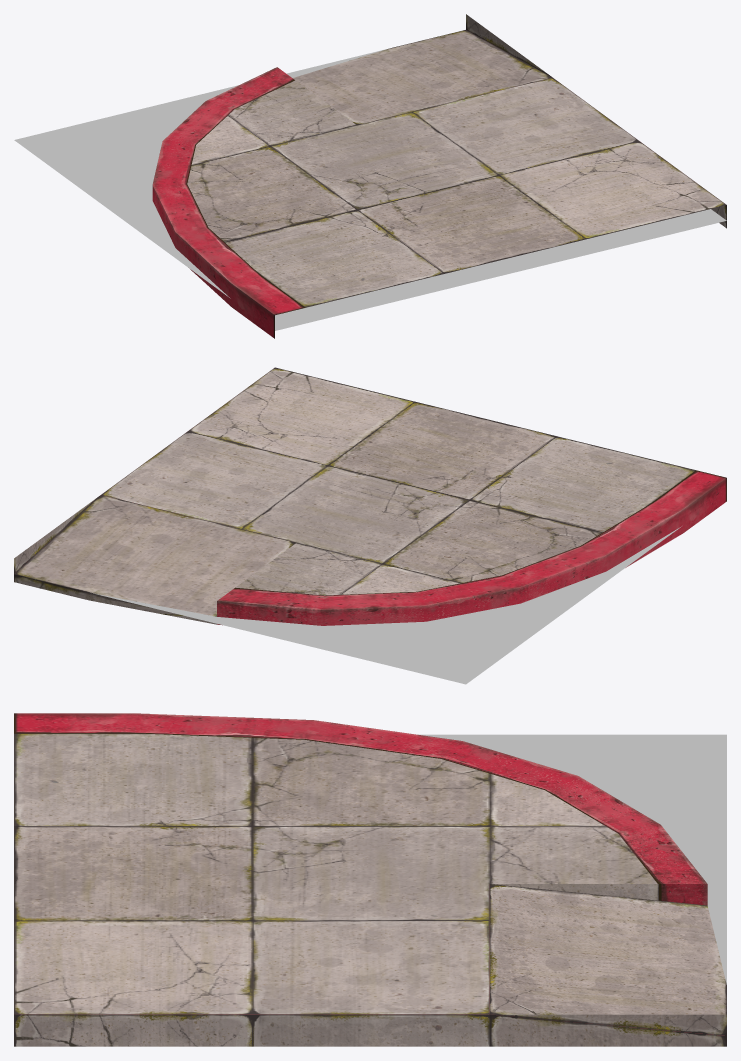
File: sidewalk02_cornerCrossL.fbx
The picture shows the model from 3 angles, top to bottom: view 1: azimuth 30°, elevation 25°; view 2: azimuth 150°, elevation 25°; view 3: azimuth 270°, elevation 25°; orthographic projection. The views are drawn at different scales.
Parts seen in each view (by area): view 1: sidewalk02_cornerCrossL; view 2: sidewalk02_cornerCrossL; view 3: sidewalk02_cornerCrossL.
Part boxes in pixels (left/top/right/bottom): sidewalk02_cornerCrossL: left=14, top=14, right=726, bottom=338; sidewalk02_cornerCrossL: left=14, top=367, right=726, bottom=684; sidewalk02_cornerCrossL: left=14, top=713, right=726, bottom=1046.
Bounding box in the file's own units: 300 × 15 × 300.
